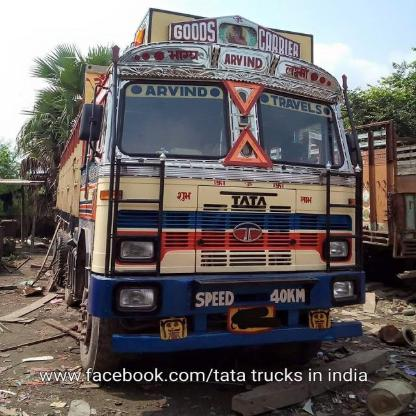truck: (26, 31, 364, 361)
